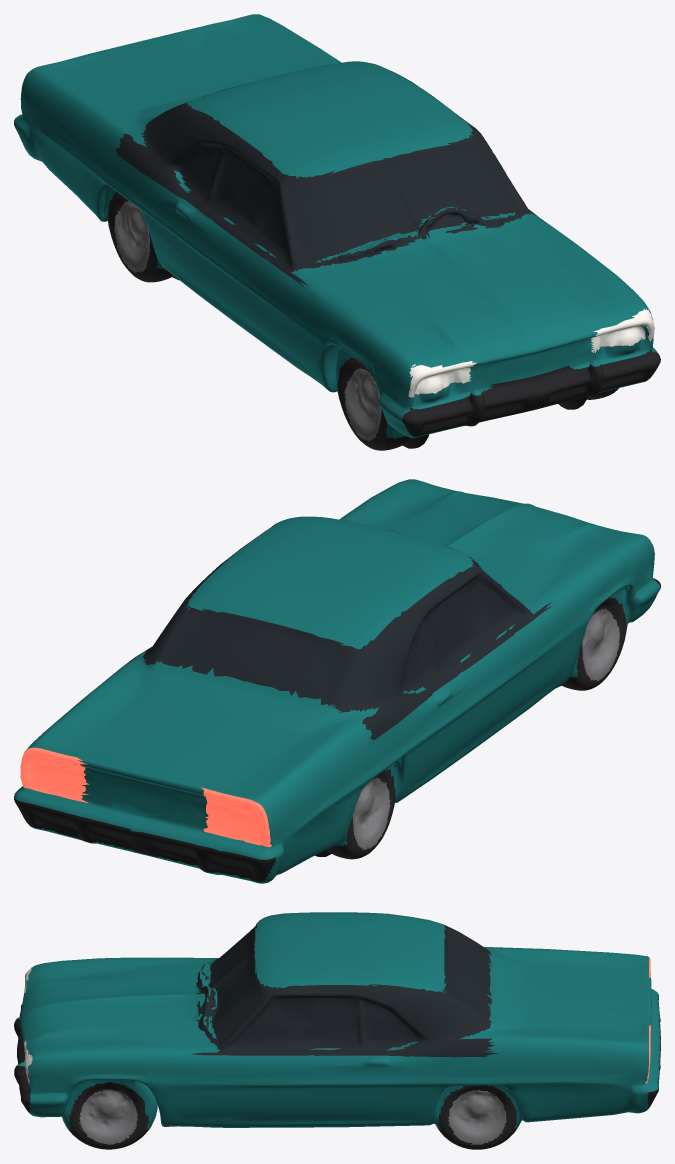
File: ClassicCar.fbx
3 views of the same model, one above another, from view 1: azimuth 30°, elevation 25°; view 2: azimuth 150°, elevation 25°; view 3: azimuth 270°, elevation 25° (orthographic). The views are drawn at different scales.
Parts seen in each view (by area): view 1: Body_Paint, Glass, Body_Trim, LightsFront, Wheel_FL_rim, Wheel_RL_rim, Wheel_FL_tyre, Wheel_RL_tyre; view 2: Body_Paint, Glass, Body_Trim, LightsRear, Wheel_FL_rim, Wheel_RL_rim, Wheel_FL_tyre, Wheel_RL_tyre; view 3: Body_Paint, Glass, Wheel_FR_rim, Wheel_RR_rim, Wheel_FR_tyre, Wheel_RR_tyre, Body_Trim.
Boxes of the visible parts, x1,y1,x2,y2 form: Body_Paint: (14,14,658,438); Glass: (116,61,548,286); Body_Trim: (14,122,660,449); LightsFront: (408,308,654,397); Wheel_FL_rim: (344,368,403,441); Wheel_RL_rim: (114,200,149,272); Wheel_FL_tyre: (337,357,410,450); Wheel_RL_tyre: (107,191,157,282); Body_Paint: (14,479,659,883); Glass: (125,523,552,740); Body_Trim: (14,578,660,882); LightsRear: (20,747,271,847); Wheel_FL_rim: (582,608,619,681); Wheel_RL_rim: (352,777,390,850); Wheel_FL_tyre: (576,597,626,690); Wheel_RL_tyre: (346,769,395,859); Body_Paint: (18,912,660,1129); Glass: (191,912,498,1057); Wheel_FR_rim: (79,1089,137,1144); Wheel_RR_rim: (448,1089,506,1144); Wheel_FR_tyre: (69,1082,148,1149); Wheel_RR_tyre: (439,1085,516,1149); Body_Trim: (14,995,660,1138).
Size of the model in its own units: 684 by 507 by 1780.
